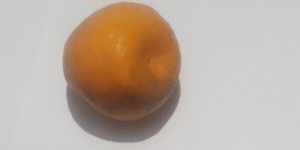BAD: (56, 1, 185, 123)
